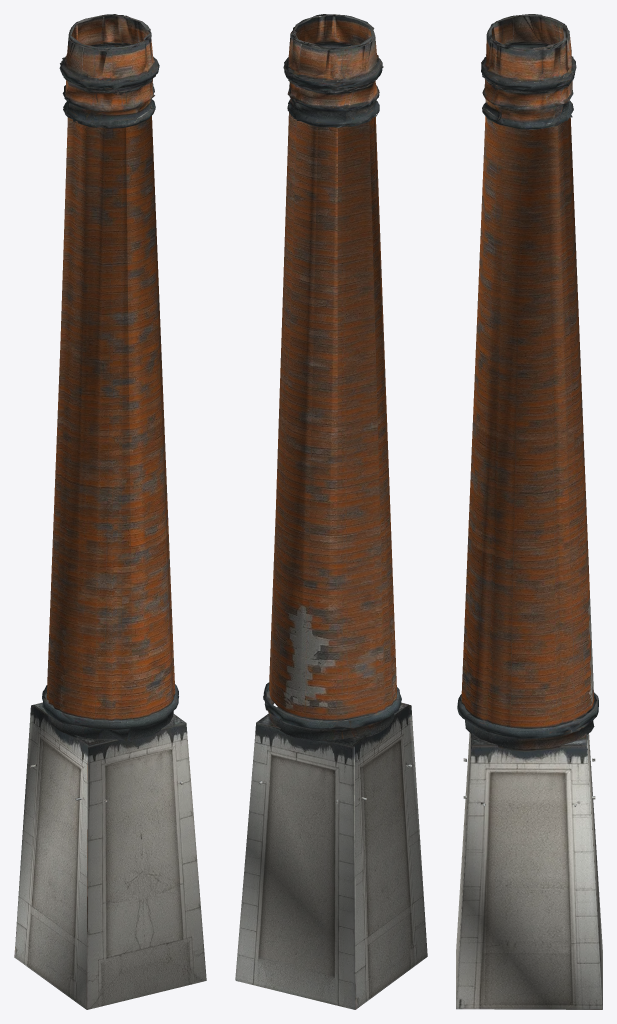
The model's file is smokestack.glb.
The picture shows the model from 3 angles, left to right: view 1: azimuth 30°, elevation 25°; view 2: azimuth 150°, elevation 25°; view 3: azimuth 270°, elevation 25°; orthographic projection.
Size of the model in its own units: 4.06 by 30 by 4.21.
Materials: 1 (1 with a texture image).
